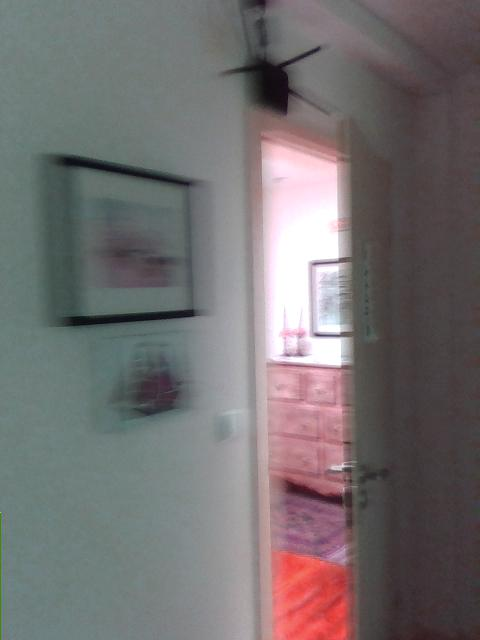semi_door: (243, 101, 397, 639)
